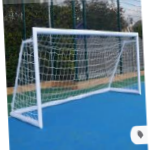goals: (10, 25, 143, 127)
